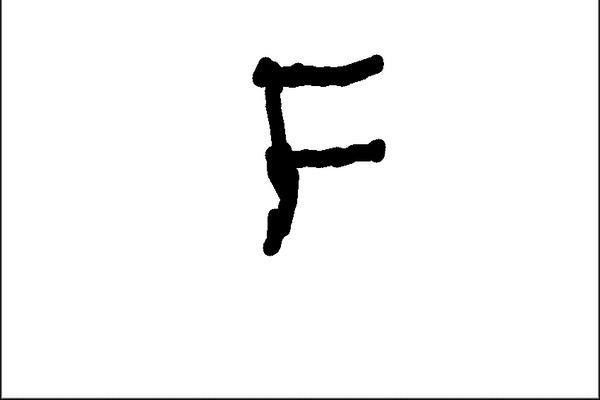F: (247, 50, 390, 259)
